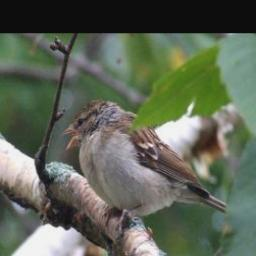Sparrow: (58, 97, 227, 238)
